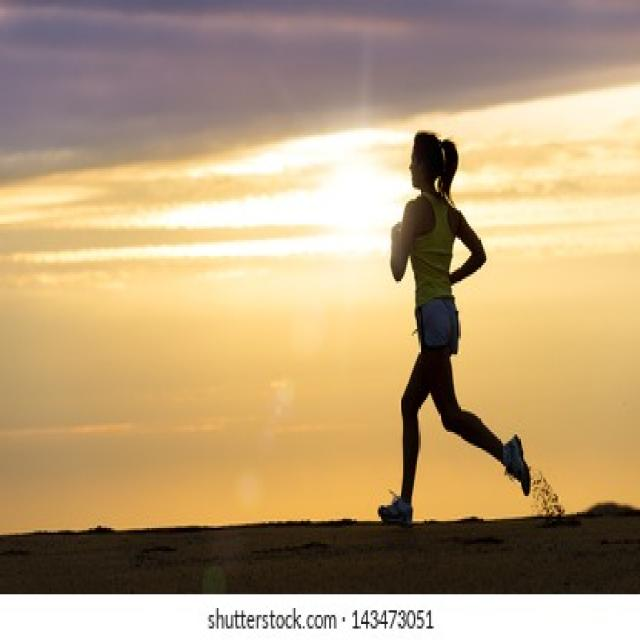running: (376, 128, 531, 528)
